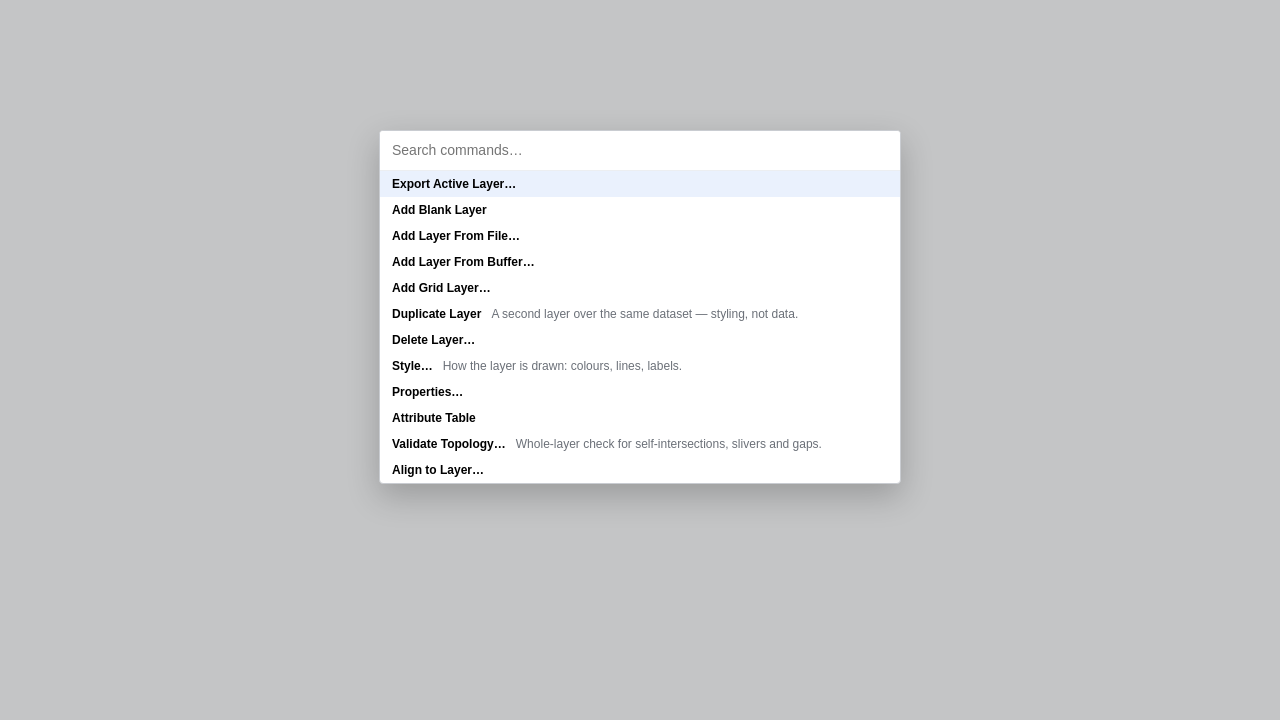
Test: the command palette › finds Combine and Dissolve when a user types "merge"
Type "merge" into the dropdown labelled "Search commands" at (640, 151), box [380,131,900,171]
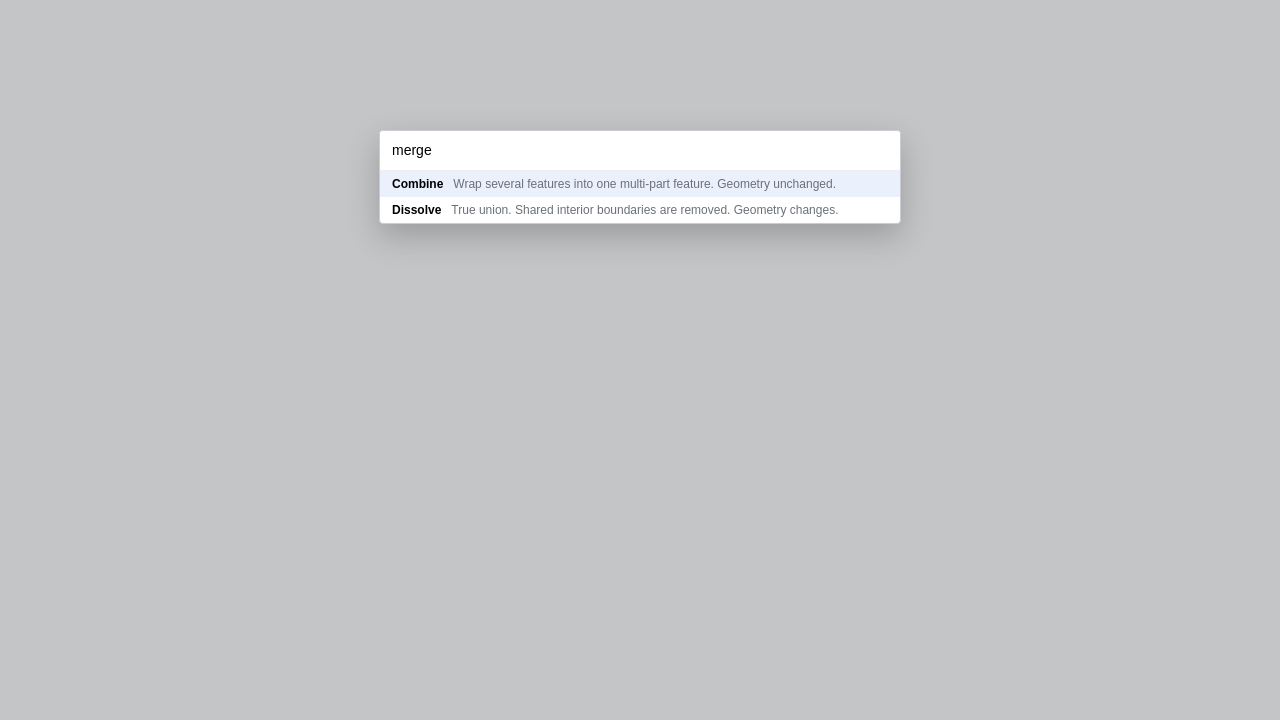
expect the text "Geometry unchanged" is shown: met, box [453,177,836,191]
expect the text "Geometry changes" is shown: met, box [451,203,838,217]
